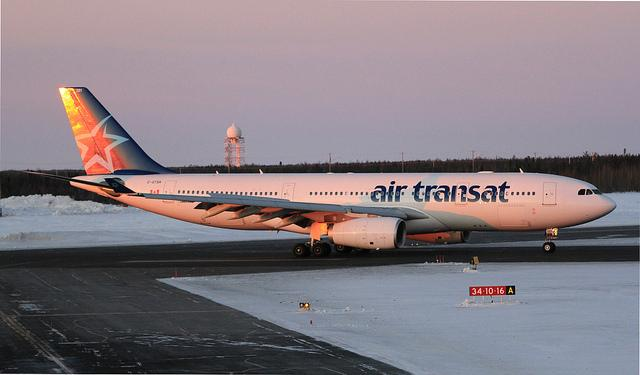airplane: (25, 84, 623, 263)
